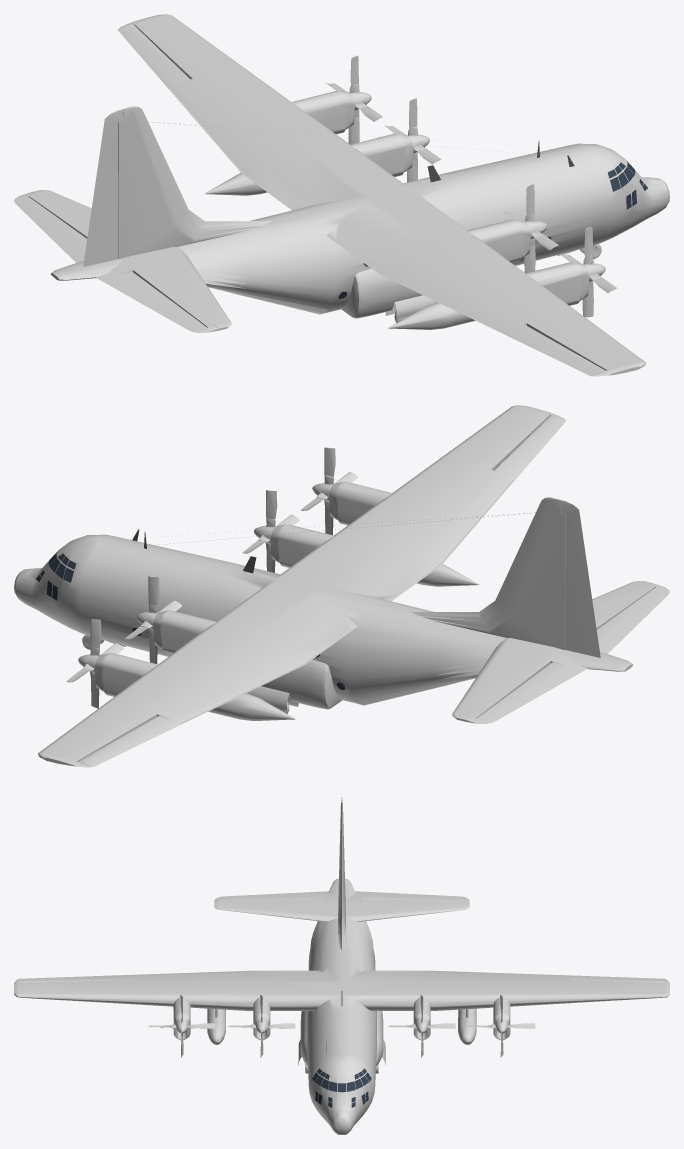
The picture shows the model from 3 angles, top to bottom: view 1: azimuth 30°, elevation 25°; view 2: azimuth 150°, elevation 25°; view 3: azimuth 270°, elevation 25°; orthographic projection. The views are drawn at different scales.
Visible parts, largest first — view 1: body, glass; view 2: body, glass; view 3: body, glass.
Boxes of the visible parts, left/top/right/bottom form: body: left=14, top=14, right=669, bottom=376; glass: left=338, top=161, right=647, bottom=299; body: left=14, top=405, right=669, bottom=767; glass: left=36, top=552, right=345, bottom=689; body: left=14, top=797, right=669, bottom=1134; glass: left=312, top=1068, right=371, bottom=1107.
Bounding box in the file's own units: 1.62 × 0.6588 × 2.2.
